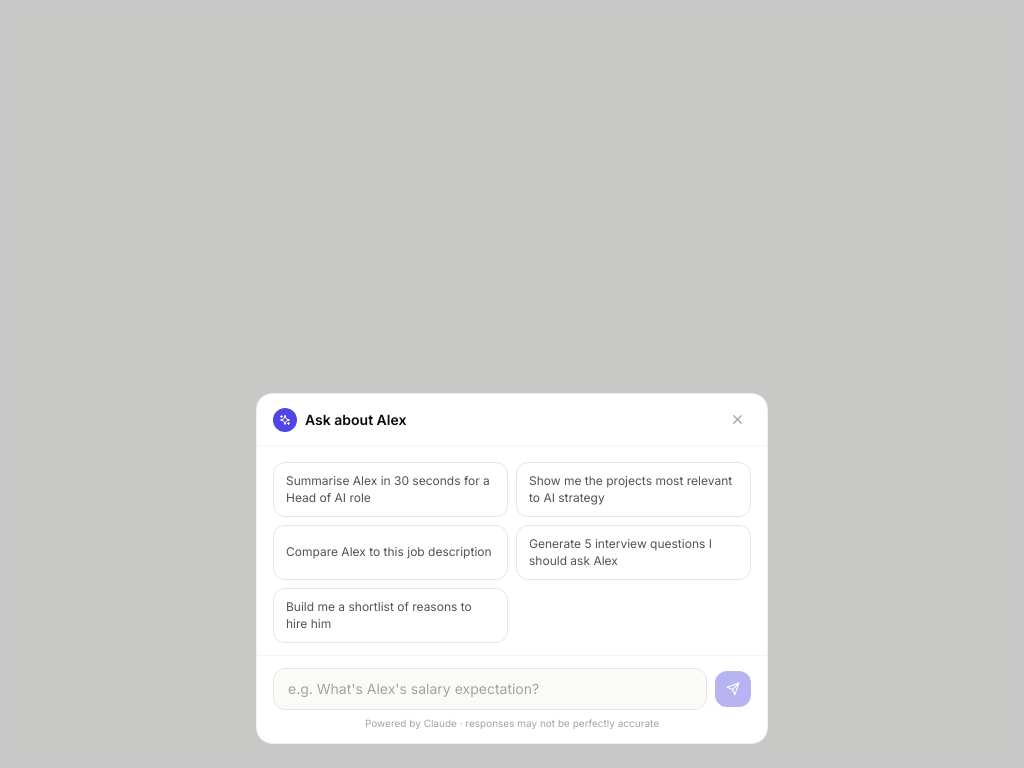
Test: QAOverlay › shows error fallback on fetch failure
The width and height of the screenshot is (1024, 768).
Step 1. Type "Some question here" into the field with placeholder "e.g. What's Alex's salary expectation?" → (490, 689), box x1=273 y1=668 x2=707 y2=710
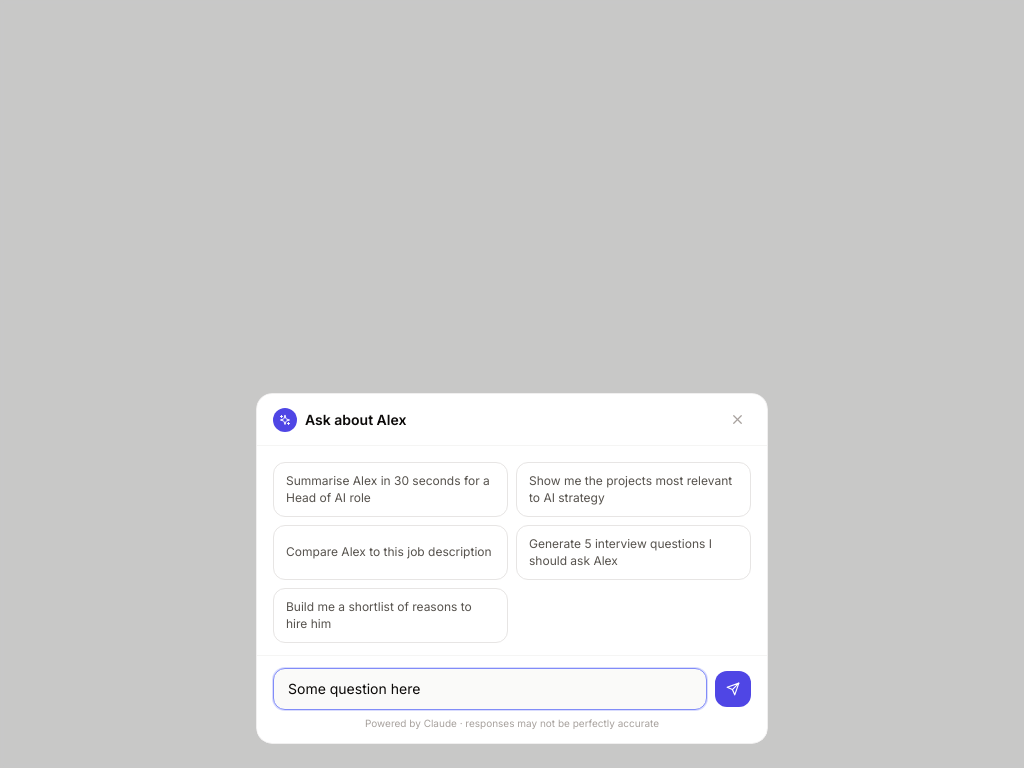
Step 2. Click the 7th button → (733, 689), box x1=715 y1=671 x2=751 y2=707
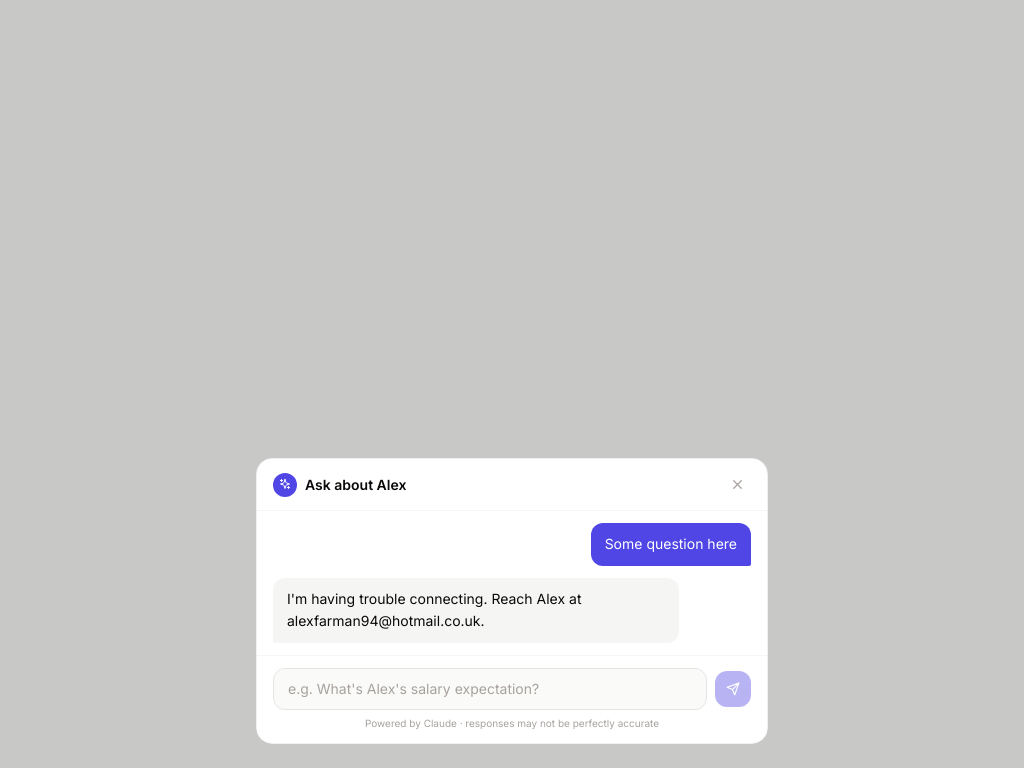
Check: the text "having trouble connecting" is shown, box x1=287 y1=590 x2=582 y2=629
